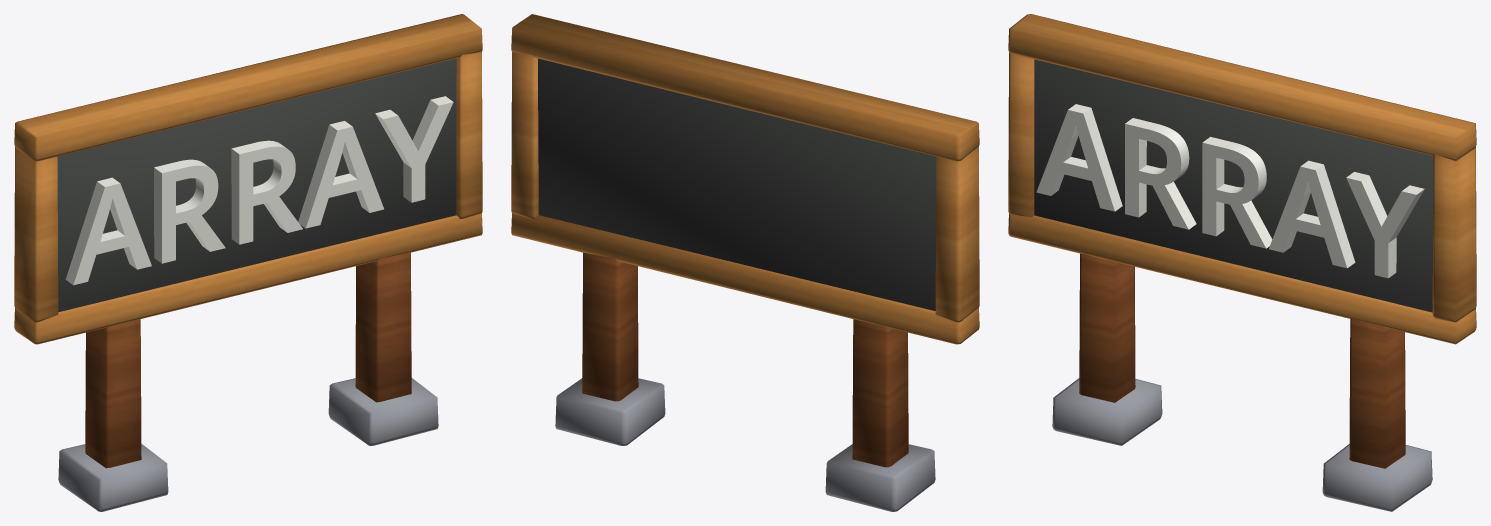
Rendered from 50_sign_array_b.glb.
The picture shows the model from 3 angles, left to right: view 1: azimuth 30°, elevation 25°; view 2: azimuth 150°, elevation 25°; view 3: azimuth 330°, elevation 25°; orthographic projection.
Visible parts, largest first — view 1: SlateBoard, SignText, FrameTop, FrameBottom, WoodPost_1, WoodPost_-1, FrameSide_-1, StoneBase_-1, StoneBase_1, FrameSide_1; view 2: SlateBoard, FrameTop, FrameBottom, WoodPost_1, WoodPost_-1, FrameSide_-1, StoneBase_-1, StoneBase_1, FrameSide_1; view 3: SlateBoard, SignText, FrameTop, FrameBottom, WoodPost_1, WoodPost_-1, FrameSide_1, StoneBase_-1, StoneBase_1, FrameSide_-1.
Boxes of the visible parts, bbox=[...] form: SlateBoard: bbox=[57, 58, 456, 312]; SignText: bbox=[65, 96, 453, 285]; FrameTop: bbox=[14, 14, 482, 161]; FrameBottom: bbox=[14, 213, 482, 344]; WoodPost_1: bbox=[355, 252, 411, 402]; WoodPost_-1: bbox=[85, 319, 141, 468]; FrameSide_-1: bbox=[14, 147, 58, 322]; StoneBase_-1: bbox=[58, 443, 168, 511]; StoneBase_1: bbox=[328, 378, 438, 445]; FrameSide_1: bbox=[456, 52, 482, 218]; SlateBoard: bbox=[538, 58, 936, 310]; FrameTop: bbox=[511, 14, 979, 161]; FrameBottom: bbox=[511, 213, 979, 344]; WoodPost_1: bbox=[582, 252, 638, 401]; WoodPost_-1: bbox=[852, 319, 908, 467]; FrameSide_-1: bbox=[935, 146, 979, 322]; StoneBase_-1: bbox=[825, 444, 935, 511]; StoneBase_1: bbox=[555, 378, 665, 445]; FrameSide_1: bbox=[511, 52, 538, 218]; SlateBoard: bbox=[1034, 59, 1433, 312]; SignText: bbox=[1036, 104, 1424, 278]; FrameTop: bbox=[1008, 14, 1476, 161]; FrameBottom: bbox=[1008, 214, 1476, 344]; WoodPost_1: bbox=[1349, 317, 1405, 468]; WoodPost_-1: bbox=[1079, 253, 1135, 402]; FrameSide_1: bbox=[1432, 147, 1476, 322]; StoneBase_-1: bbox=[1052, 378, 1162, 445]; StoneBase_1: bbox=[1322, 444, 1432, 511]; FrameSide_-1: bbox=[1008, 52, 1034, 217].
Size of the model in its own units: 1.3 by 1.06 by 0.21.
Materials: 5 (2 with a texture image).
